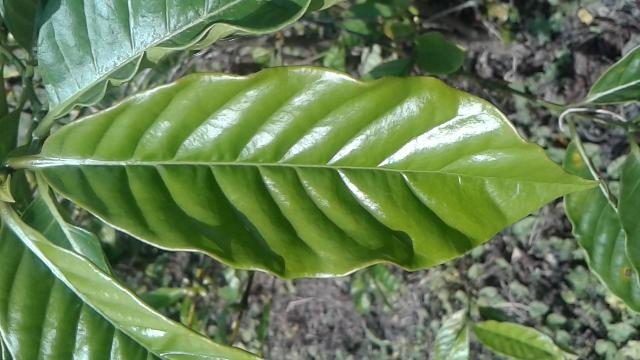healthy: (36, 64, 609, 282)
